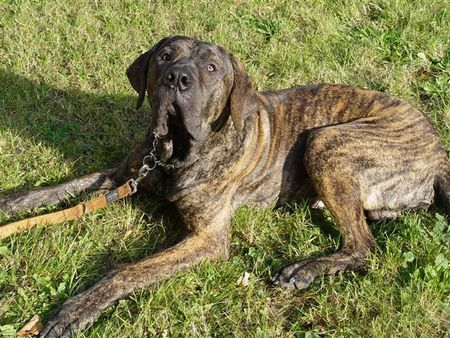fila_brasileiro: (0, 34, 450, 338)
